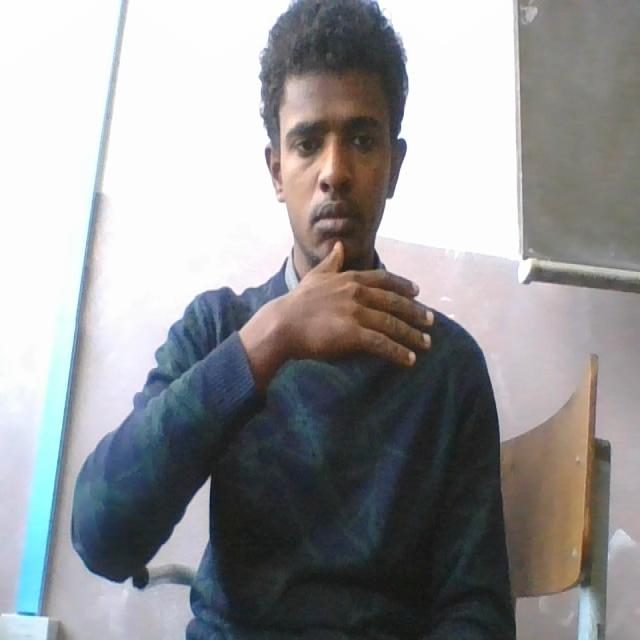enat: (264, 223, 442, 387)
